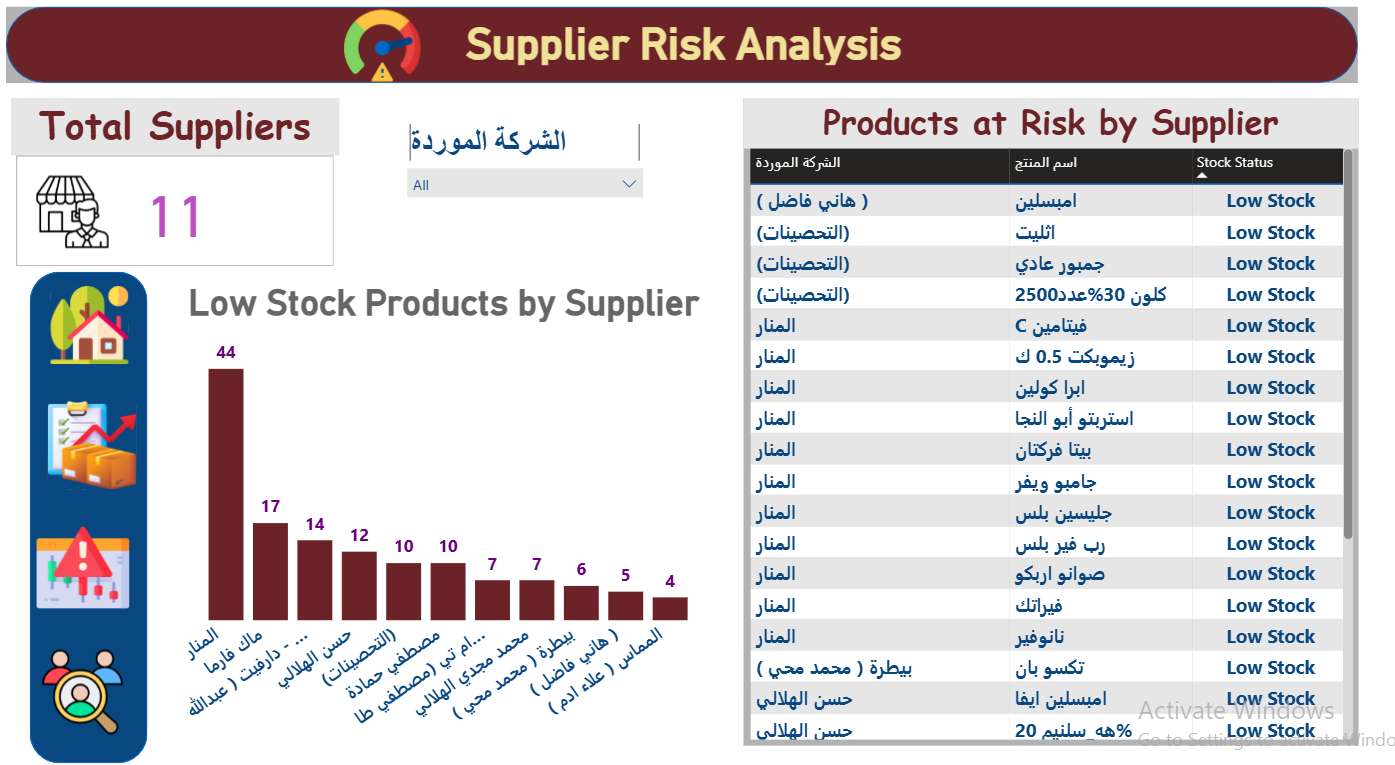

This screenshot's page, from the dashboard's own definition file:
{"tool":"powerbi","page":{"name":"Supplier Risk Analysis","canvas":[1280,720],"ordinal":3},"visuals":[{"type":"shape","box":[9.8,8.6,1260.7,70.9],"z":0},{"type":"actionButton","title":"Supplier Risk Analysis","box":[31.8,18.3,1220.4,44],"z":1000},{"type":"actionButton","box":[320.4,4.9,319.2,79.5],"z":2000},{"type":"shape","box":[31.6,255.2,109.8,458.3],"z":3000},{"type":"actionButton","box":[46.7,264.8,120.8,81],"z":4000},{"type":"actionButton","box":[43.9,371.9,97.4,90.6],"z":5000},{"type":"actionButton","box":[34.3,484.4,122.1,94.7],"z":6000},{"type":"actionButton","box":[32.9,599.7,122.1,96.1],"z":7000},{"type":"cardVisual","title":"Total Suppliers","fields":{"Data":["المخزون.Total Supplier"]},"box":[13.7,93.3,306,161.9],"z":8000},{"type":"actionButton","box":[31.6,159.2,90.6,79.6],"z":9000},{"type":"tableEx","title":"Products at Risk by Supplier","fields":{"Values":["المخزون.الشركة الموردة ","المخزون.اسم المنتج","المخزون.Stock Status"]},"box":[697.1,93.3,573.6,603.8],"z":10000},{"type":"clusteredColumnChart","title":"Low Stock Products by Supplier","fields":{"Category":["المخزون.الشركة الموردة "],"Y":["المخزون.اسم المنتج"]},"box":[167.4,264.8,499.5,430.9],"z":11000},{"type":"slicer","fields":{"Values":["المخزون.الشركة الموردة "]},"box":[373.2,112.5,240.1,93.3],"z":12000}]}

Visuals, with their boxes in screenshot pixels (x1, y1, x2, y2), scaled from the page's 1280x720 canvas onto the 1395x765 screenshot:
shape: {"x1": 11, "y1": 9, "x2": 1385, "y2": 84}
"Supplier Risk Analysis" actionButton: {"x1": 35, "y1": 19, "x2": 1365, "y2": 66}
actionButton: {"x1": 349, "y1": 5, "x2": 697, "y2": 90}
shape: {"x1": 34, "y1": 271, "x2": 154, "y2": 758}
actionButton: {"x1": 51, "y1": 281, "x2": 183, "y2": 367}
actionButton: {"x1": 48, "y1": 395, "x2": 154, "y2": 491}
actionButton: {"x1": 37, "y1": 515, "x2": 170, "y2": 615}
actionButton: {"x1": 36, "y1": 637, "x2": 169, "y2": 739}
"Total Suppliers" cardVisual: {"x1": 15, "y1": 99, "x2": 348, "y2": 271}
actionButton: {"x1": 34, "y1": 169, "x2": 133, "y2": 254}
"Products at Risk by Supplier" tableEx: {"x1": 760, "y1": 99, "x2": 1385, "y2": 741}
"Low Stock Products by Supplier" clusteredColumnChart: {"x1": 182, "y1": 281, "x2": 727, "y2": 739}
slicer - المخزون.الشركة الموردة : {"x1": 407, "y1": 120, "x2": 668, "y2": 219}
